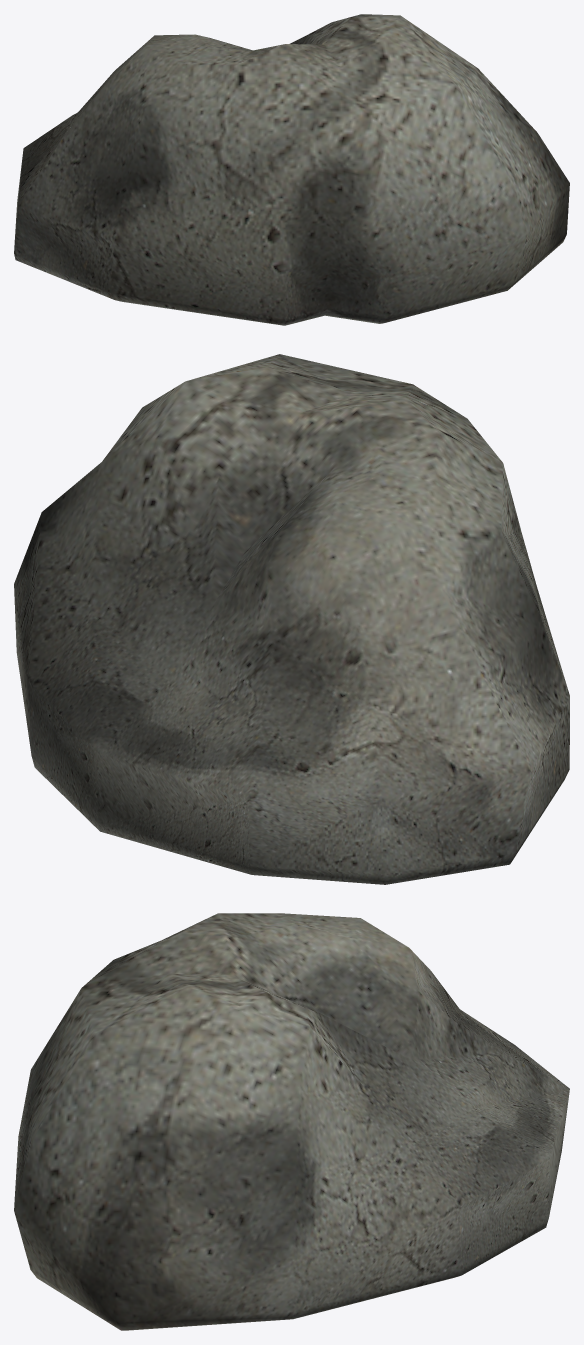
The model's file is Debris_Small_Concrete_05.fbx.
3 renders of one model, top to bottom at view 1: azimuth 30°, elevation 25°; view 2: azimuth 150°, elevation 25°; view 3: azimuth 270°, elevation 25°, orthographic. The views are drawn at different scales.
Parts seen in each view (by area): view 1: Debris_Small_Concrete_05; view 2: Debris_Small_Concrete_05; view 3: Debris_Small_Concrete_05.
Boxes of the visible parts, <box> form: Debris_Small_Concrete_05: <box>14,14,569,325</box>; Debris_Small_Concrete_05: <box>14,354,569,884</box>; Debris_Small_Concrete_05: <box>14,913,569,1330</box>.
Bounding box in the file's own units: 0.2291 × 0.1175 × 0.2172.
